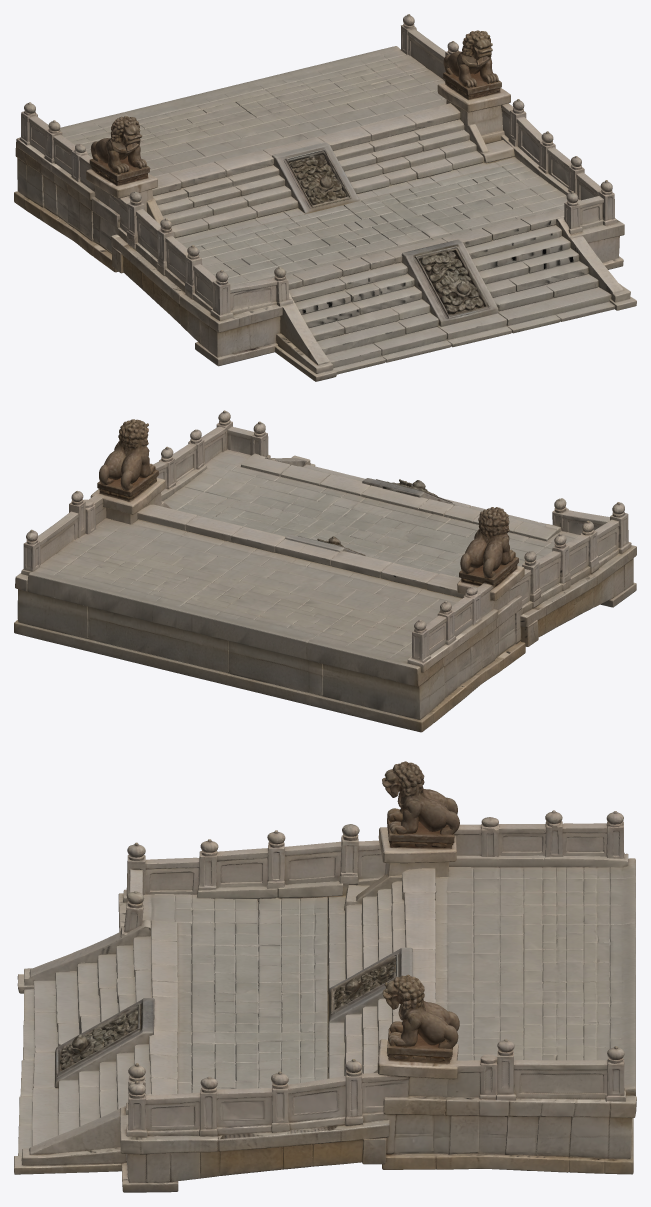
The model's file is approach.glb.
3 renders of one model, top to bottom at view 1: azimuth 30°, elevation 25°; view 2: azimuth 150°, elevation 25°; view 3: azimuth 270°, elevation 25°, orthographic. The views are drawn at different scales.
Visible parts, largest first — view 1: model; view 2: model; view 3: model.
Boxes of the visible parts, x1,y1,x2,y2 form: model: (14,14,636,381); model: (14,410,636,732); model: (14,761,636,1192).
Bounding box in the file's own units: 1.78 × 0.6602 × 1.9.
Materials: 1 (1 with a texture image).
